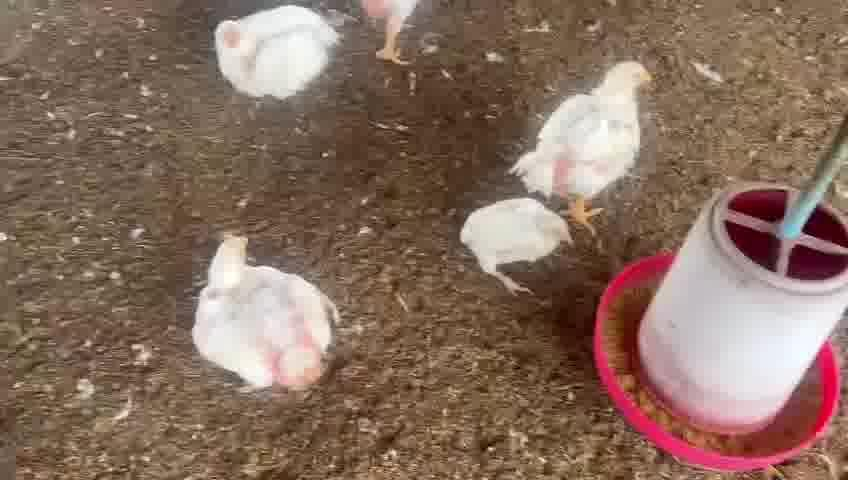AbNormal: (455, 189, 579, 296)
Normal: (183, 226, 356, 398), (511, 60, 676, 230), (184, 5, 349, 112)
